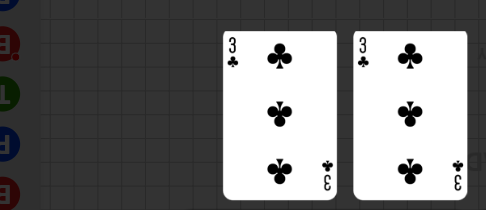3C: (356, 35, 371, 70), (226, 35, 241, 70)
